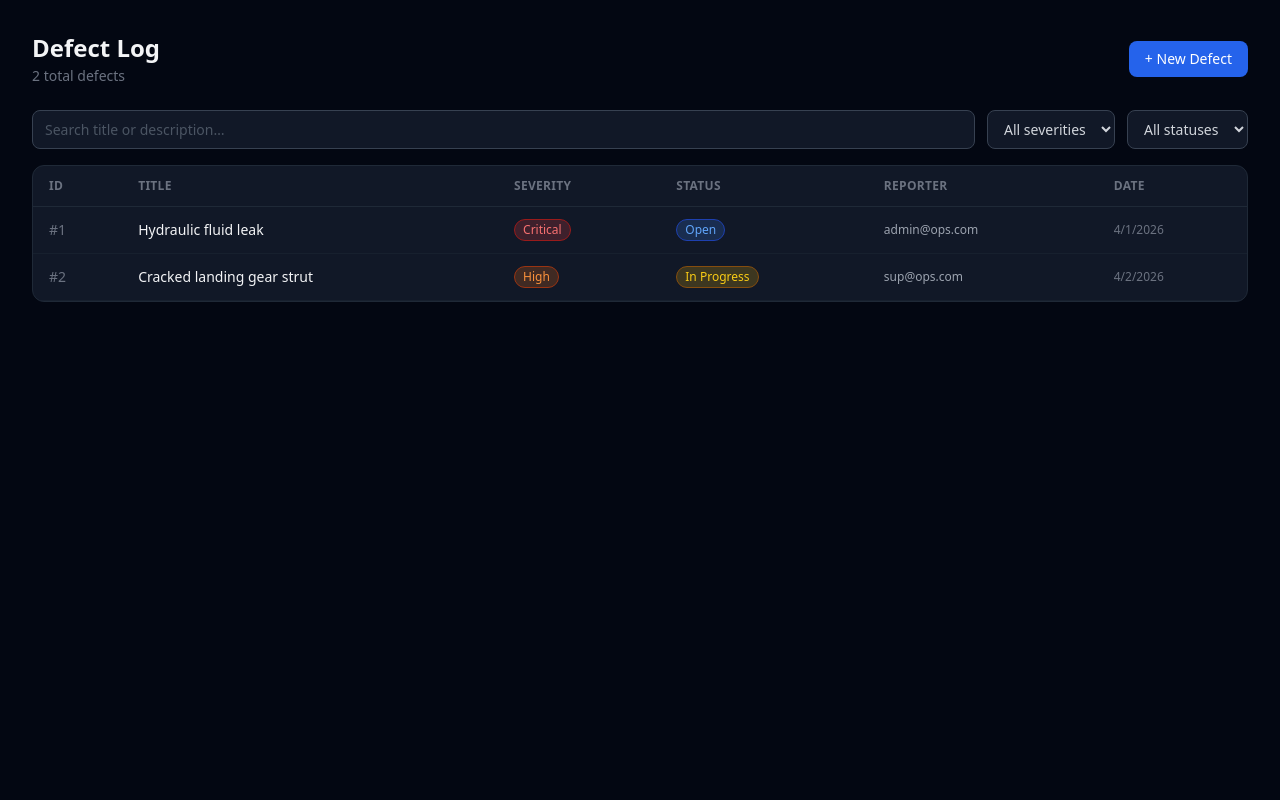
Scenario: DefectLog — slide-over detail panel › shows the Edit Defect section in the slide-over for admin
Click the text "Hydraulic fluid leak" at x=201, y=230, box [122, 206, 498, 254]
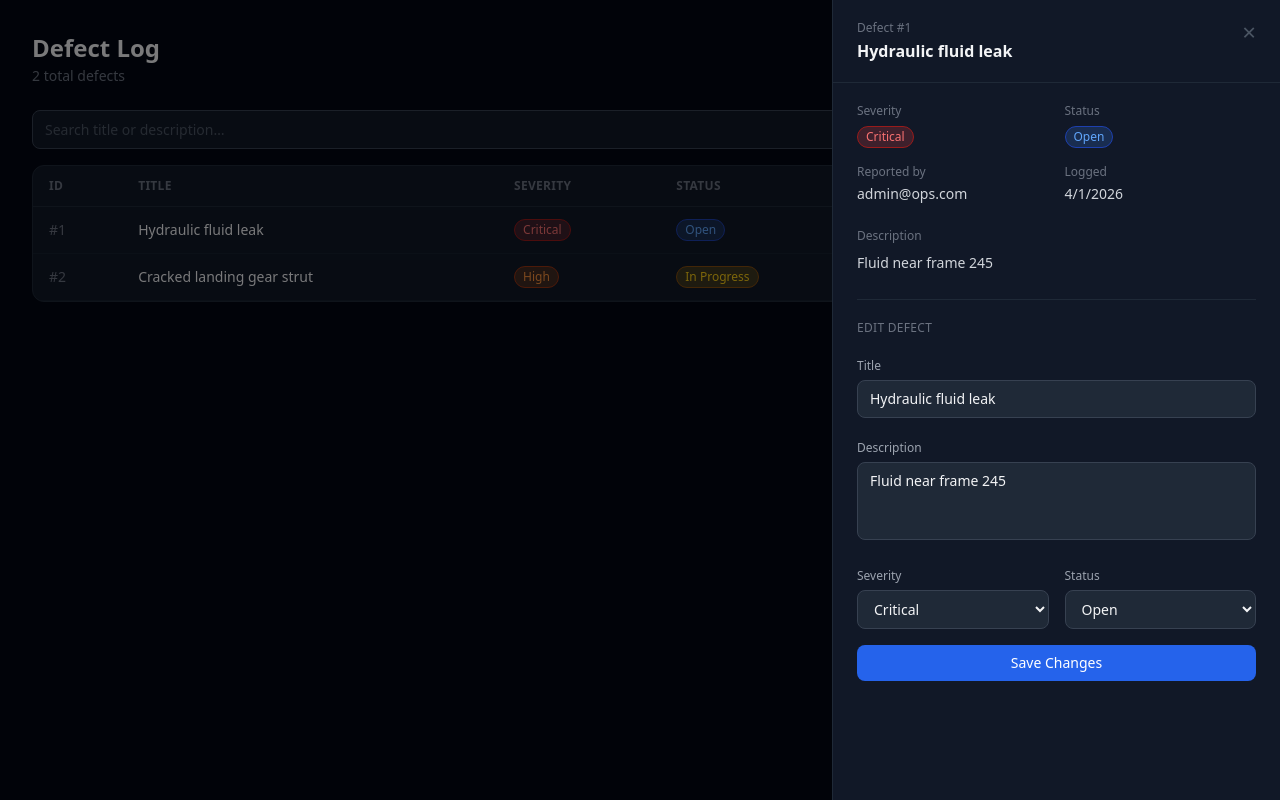
Check: the text "Edit Defect" is shown, box [857, 319, 932, 336]
